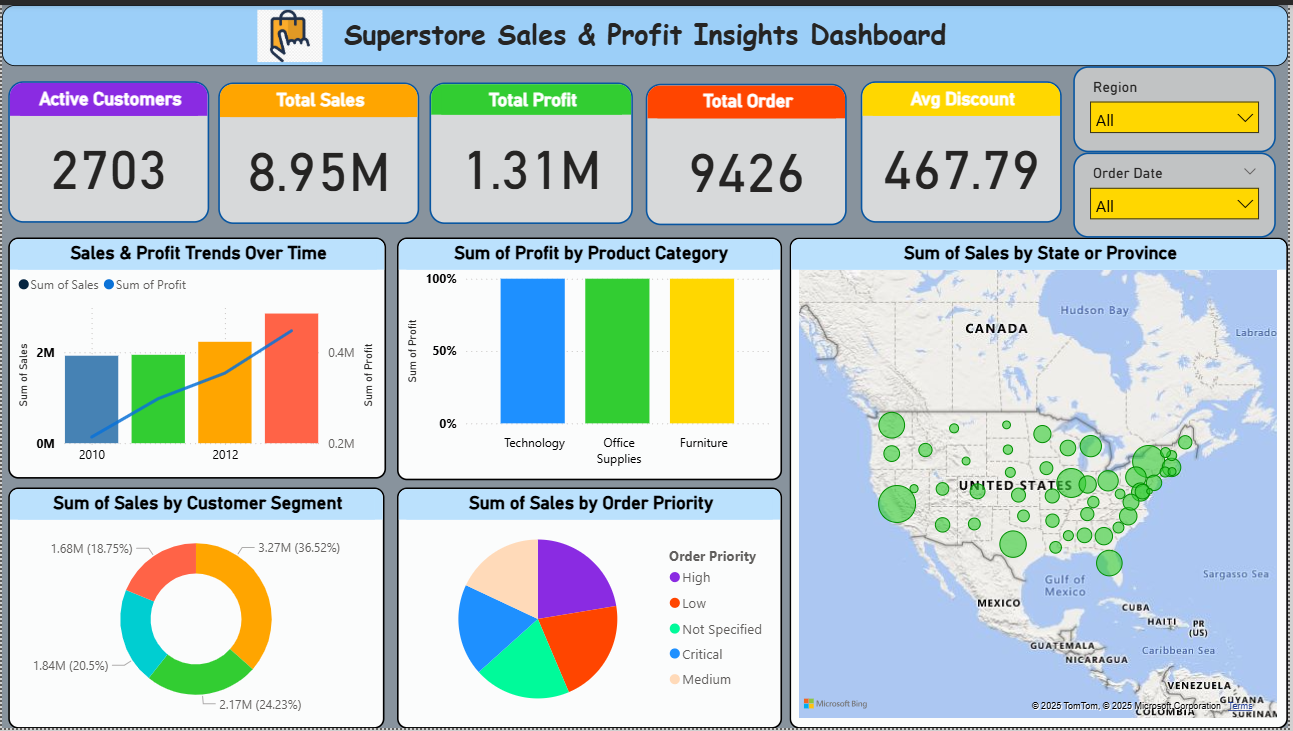

The page's visual inventory and layout, read from the dashboard file:
{"tool":"powerbi","page":{"name":"Page 2","canvas":[1280,720],"ordinal":0},"visuals":[{"type":"textbox","box":[0,0,1280,61],"z":0},{"type":"card","title":"Total Sales","fields":{"Values":["Sum(Orders.Sales)"]},"box":[215.2,77.1,200.3,140.6],"z":1000},{"type":"card","title":"Total Profit","fields":{"Values":["Sum(Orders.Profit)"]},"box":[425.4,77.1,202.8,140.6],"z":2000},{"type":"card","title":"Total Order ","fields":{"Values":["CountNonNull(Orders.Order ID)"]},"box":[640.6,78.4,200.3,140.6],"z":3000},{"type":"card","title":"Avg Discount","fields":{"Values":["Sum(Orders.Discount)"]},"box":[854.6,75.9,200.3,140.6],"z":4000},{"type":"lineClusteredColumnComboChart","title":"Sales & Profit Trends Over Time","fields":{"Y":["Sum(Orders.Sales)"],"Category":["Orders.Order Date.Variation.Date Hierarchy.Year"],"Y2":["Sum(Orders.Profit)"]},"box":[6.2,231.4,375.7,240.1],"z":5000},{"type":"map","fields":{"Category":["Orders.State or Province"],"Size":["Sum(Orders.Sales)"]},"box":[783.7,231.4,496.3,488.9],"z":6000},{"type":"donutChart","fields":{"Category":["Orders.Customer Segment"],"Y":["Sum(Orders.Sales)"]},"box":[6.2,480.2,374.4,240.1],"z":7000},{"type":"hundredPercentStackedColumnChart","fields":{"Category":["Orders.Product Category"],"Y":["Sum(Orders.Profit)"]},"box":[393.1,231.4,383.1,241.3],"z":8000},{"type":"pieChart","fields":{"Category":["Orders.Order Priority"],"Y":["Sum(Orders.Sales)"]},"box":[393.1,480.2,383.1,240.1],"z":9000},{"type":"slicer","fields":{"Values":["Orders.Order Date"]},"box":[1066.1,146.8,201.5,84.6],"z":10000},{"type":"slicer","fields":{"Values":["Orders.Region"]},"box":[1066.1,61,201.5,85.8],"z":11000},{"type":"image","box":[241.3,0,90.8,62.2],"z":12000},{"type":"card","title":"Active Customers","fields":{"Values":["Count(Orders.Customer ID)"]},"box":[6.2,75.9,200.3,140.6],"z":13000}]}

Visuals, with their boxes in screenshot pixels (x1, y1, x2, y2), scaled from the page's 1280x720 canvas onto the 1293x731 screenshot:
textbox: {"left": 0, "top": 0, "right": 1292, "bottom": 62}
"Total Sales" card: {"left": 217, "top": 78, "right": 420, "bottom": 221}
"Total Profit" card: {"left": 430, "top": 78, "right": 635, "bottom": 221}
"Total Order " card: {"left": 647, "top": 80, "right": 849, "bottom": 222}
"Avg Discount" card: {"left": 863, "top": 77, "right": 1066, "bottom": 220}
"Sales & Profit Trends Over Time" lineClusteredColumnComboChart: {"left": 6, "top": 235, "right": 386, "bottom": 479}
map - Orders.State or Province x Sum(Orders.Sales): {"left": 792, "top": 235, "right": 1292, "bottom": 730}
donutChart - Orders.Customer Segment x Sum(Orders.Sales): {"left": 6, "top": 488, "right": 384, "bottom": 730}
hundredPercentStackedColumnChart - Orders.Product Category x Sum(Orders.Profit): {"left": 397, "top": 235, "right": 784, "bottom": 480}
pieChart - Orders.Order Priority x Sum(Orders.Sales): {"left": 397, "top": 488, "right": 784, "bottom": 730}
slicer - Orders.Order Date: {"left": 1077, "top": 149, "right": 1280, "bottom": 235}
slicer - Orders.Region: {"left": 1077, "top": 62, "right": 1280, "bottom": 149}
image: {"left": 244, "top": 0, "right": 335, "bottom": 63}
"Active Customers" card: {"left": 6, "top": 77, "right": 209, "bottom": 220}
